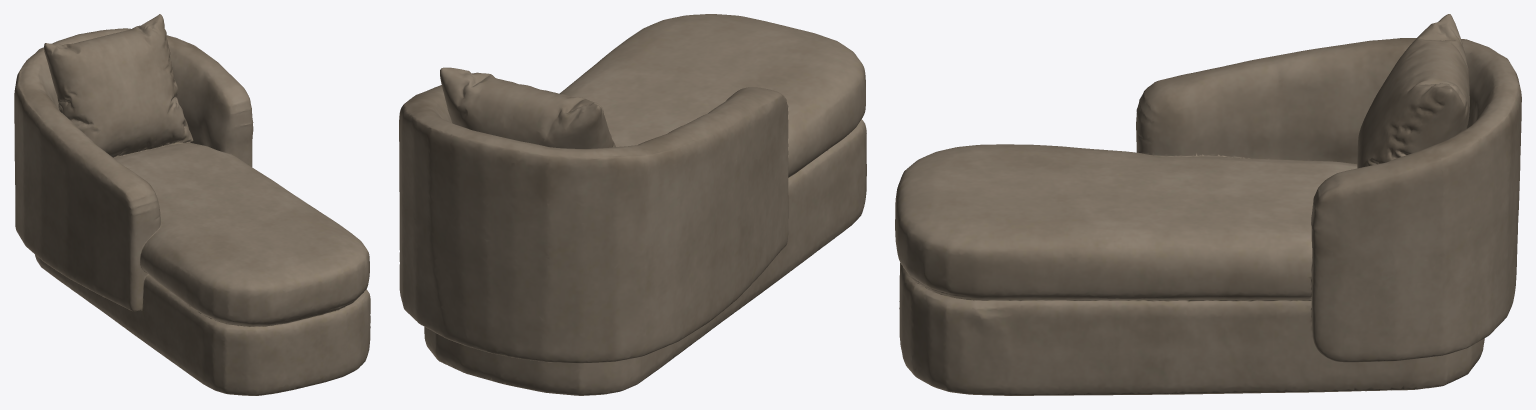
The model's file is contemporary_chaise_lounge_2zmmuv.glb.
3 renders of one model, left to right at view 1: azimuth 30°, elevation 25°; view 2: azimuth 150°, elevation 25°; view 3: azimuth 270°, elevation 25°, orthographic. The views are drawn at different scales.
Parts seen in each view (by area): view 1: world; view 2: world; view 3: world.
Part boxes in pixels (x1=…): world: x1=14, y1=14, x2=370, y2=395; world: x1=399, y1=14, x2=866, y2=395; world: x1=895, y1=14, x2=1521, y2=395.
Size of the model in its own units: 0.5105 by 0.514 by 1.
Materials: 1 (1 with a texture image).
